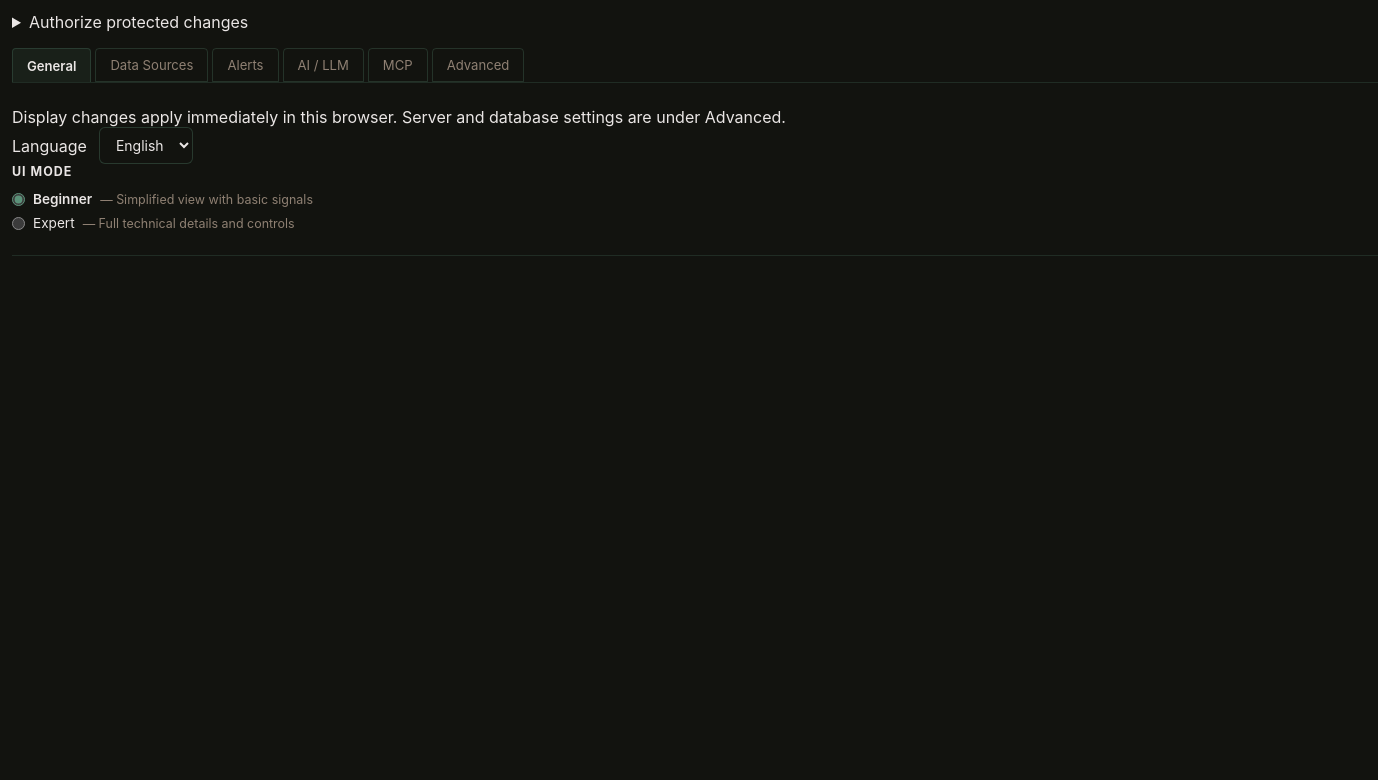
Test case: reports provider connection failures instead of silently accepting them
The image size is (1378, 780).
Click the tab "Data Sources" at (152, 65), box top-left (95, 48), bottom-right (208, 82)
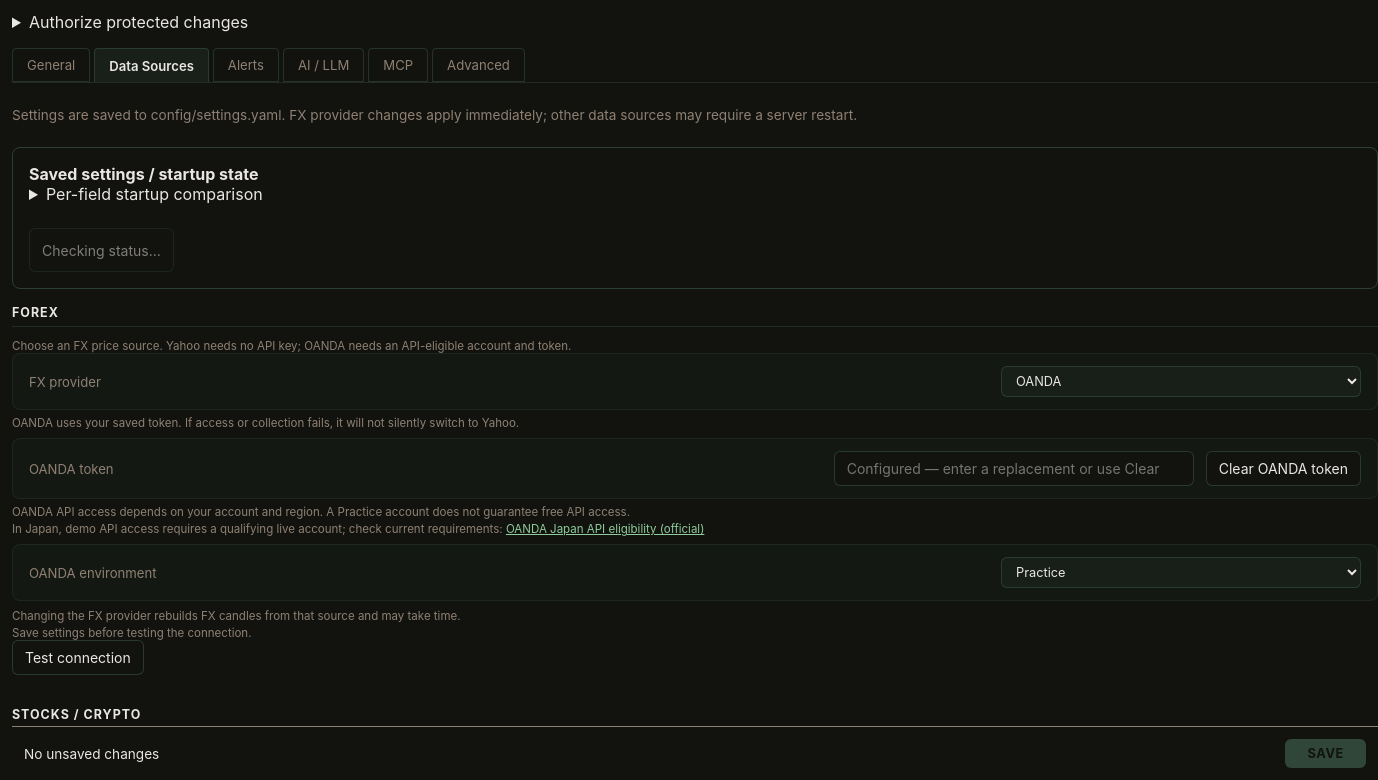
Click the button "Test connection" at (78, 658), box top-left (12, 640), bottom-right (144, 675)
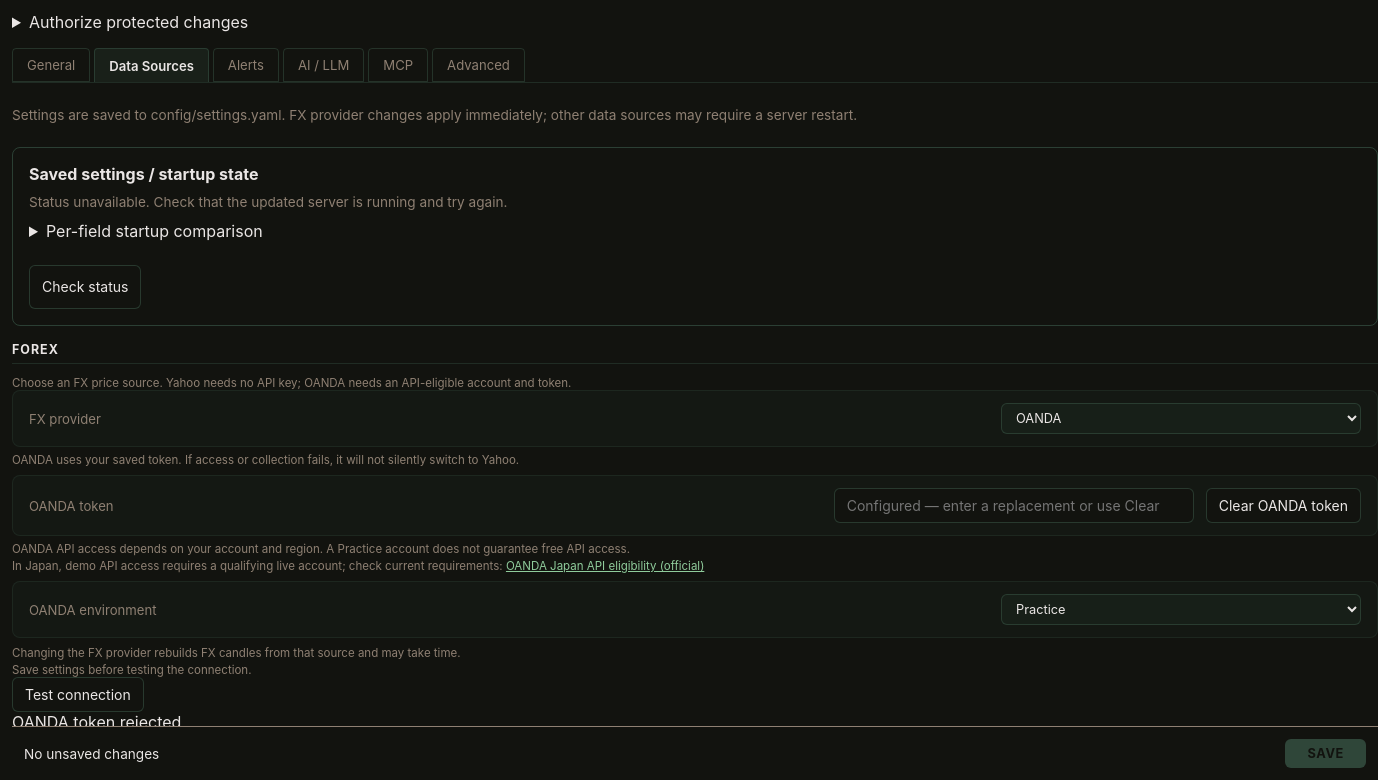
Check: the message "OANDA token rejected" is shown, box top-left (12, 712), bottom-right (181, 732)
